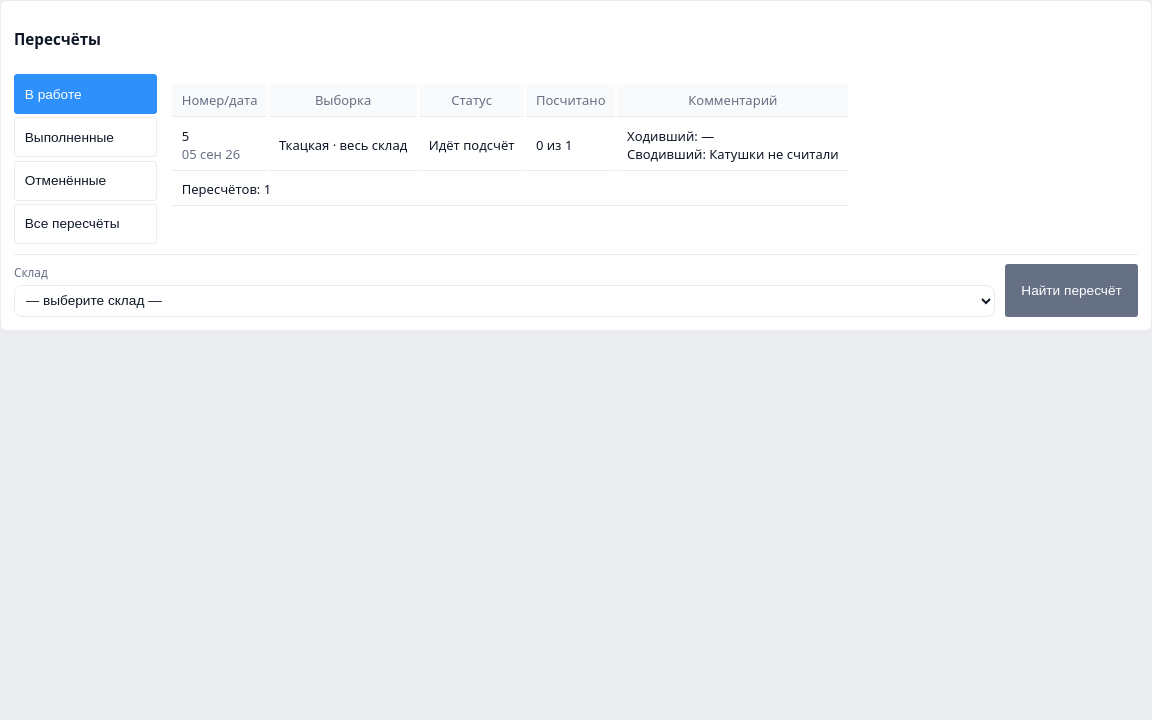
Test case: журнал пересчётов › в StrictMode экран остаётся живым: сторож возвращается в «смонтирован»
Click the text "Идёт подсчёт" at (472, 145), box left=419, top=119, right=524, bottom=171
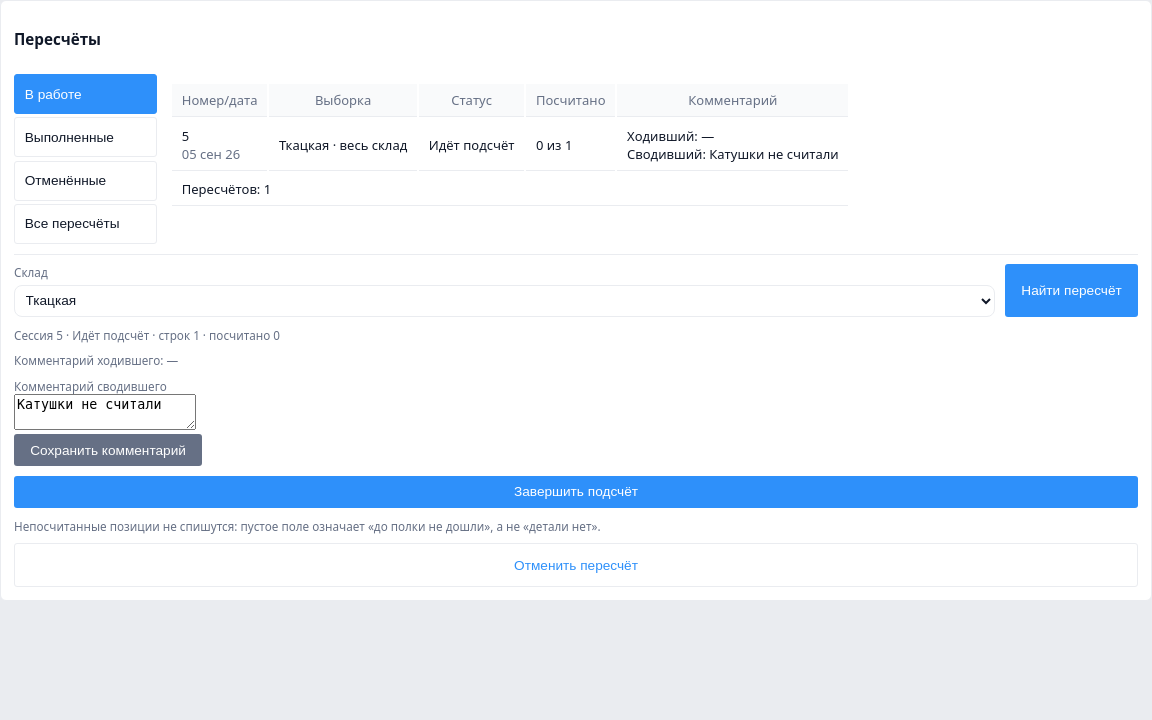
expect the text "Сессия 5 · Идёт подсчёт · строк 1 · посчитано 0" is shown: met, box left=14, top=327, right=280, bottom=343
expect the text box labelled "Комментарий сводившего" is shown: met, box left=14, top=394, right=196, bottom=430
